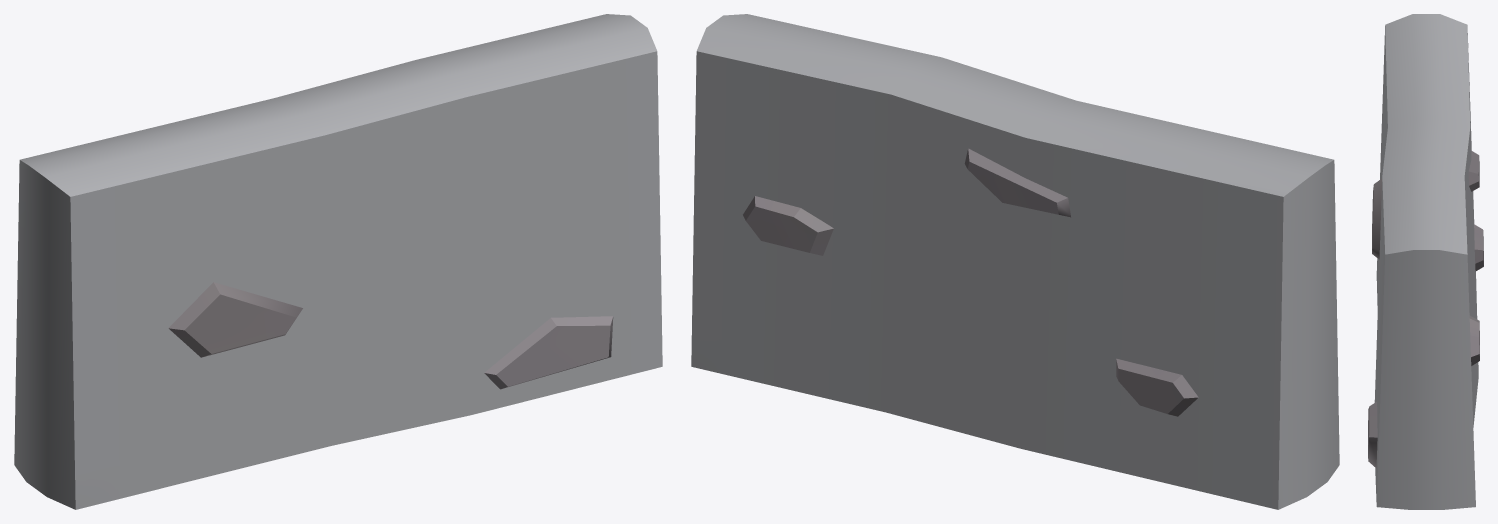
Rendered from stone_wall.fbx.
3 views of the same model, side by side, from view 1: azimuth 30°, elevation 25°; view 2: azimuth 150°, elevation 25°; view 3: azimuth 270°, elevation 25° (orthographic). The views are drawn at different scales.
Visible parts, largest first — view 1: Box029, Line248; view 2: Box029, Line247; view 3: Box029, Line248, Line247.
Boxes of the visible parts, x1,y1,x2,y2 form: Box029: (14, 14, 662, 509); Line248: (168, 282, 613, 389); Box029: (691, 14, 1339, 509); Line247: (743, 148, 1198, 416); Box029: (1374, 14, 1478, 509); Line248: (1368, 178, 1382, 468); Line247: (1468, 150, 1483, 365).
Bounding box in the file's own units: 2.05 × 1.05 × 0.4224.
